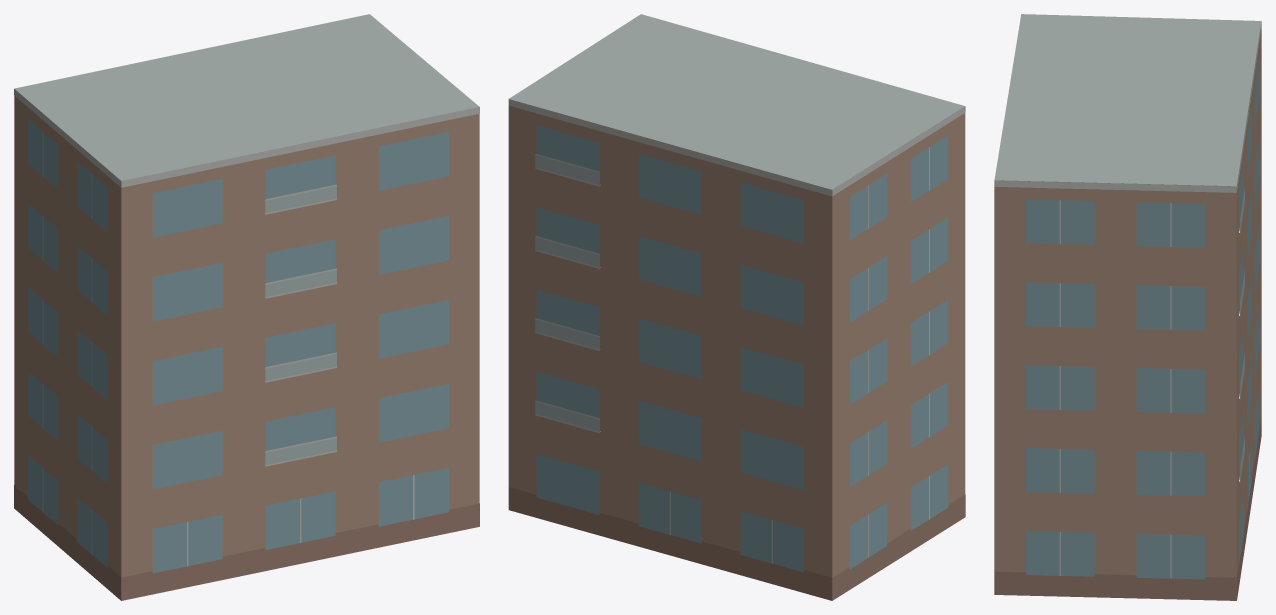
File: survey-upis-32654970.glb
The picture shows the model from 3 angles, left to right: view 1: azimuth 30°, elevation 25°; view 2: azimuth 150°, elevation 25°; view 3: azimuth 270°, elevation 25°; orthographic projection. The views are drawn at different scales.
Parts seen in each view (by area): view 1: survey-upis-32654970.tmp; view 2: survey-upis-32654970.tmp; view 3: survey-upis-32654970.tmp.
Boxes of the visible parts, x1,y1,x2,y2 form: survey-upis-32654970.tmp: [14, 14, 479, 600]; survey-upis-32654970.tmp: [508, 14, 965, 600]; survey-upis-32654970.tmp: [994, 14, 1261, 600].
Size of the model in its own units: 13.6 by 15.25 by 8.92.
